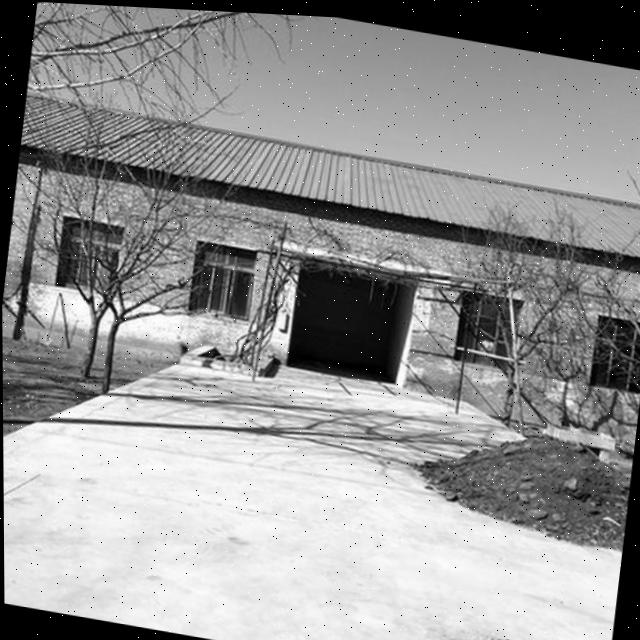building: (1, 88, 640, 443)
